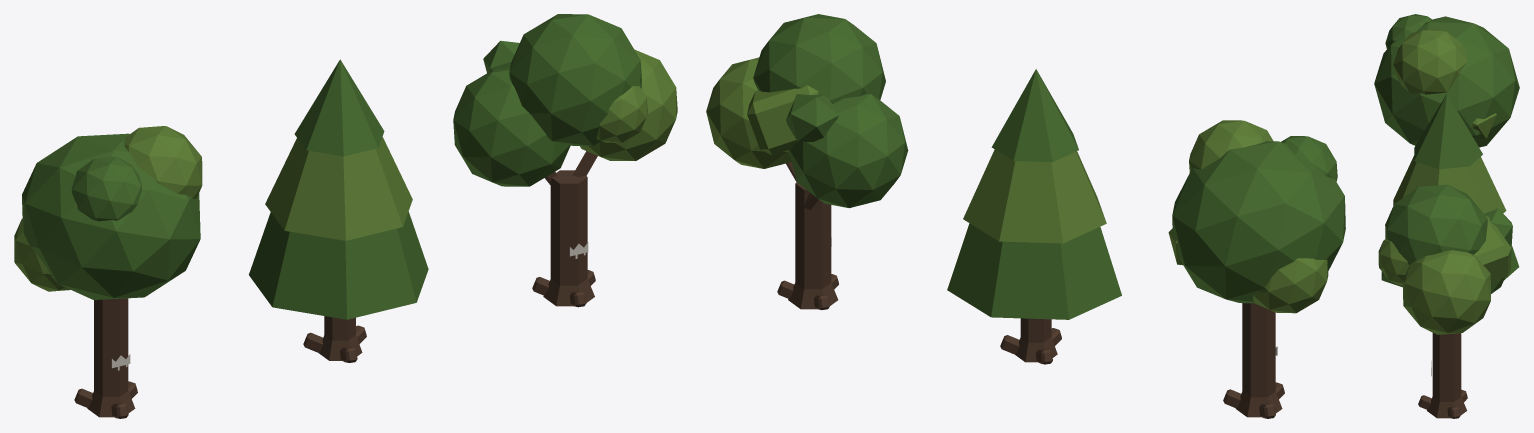
File: c_tree.glb
3 views of the same model, side by side, from view 1: azimuth 30°, elevation 25°; view 2: azimuth 150°, elevation 25°; view 3: azimuth 270°, elevation 25° (orthographic). The views are drawn at different scales.
Visible parts, largest first — view 1: tree_c, tree_a, tree_b; view 2: tree_c, tree_a, tree_b; view 3: tree_c, tree_a, tree_b.
Boxes of the visible parts, x1=… form: tree_c: x1=453, y1=14, x2=677, y2=307; tree_a: x1=14, y1=126, x2=202, y2=418; tree_b: x1=249, y1=59, x2=428, y2=362; tree_c: x1=706, y1=14, x2=908, y2=309; tree_a: x1=1168, y1=120, x2=1345, y2=418; tree_b: x1=947, y1=69, x2=1121, y2=364; tree_c: x1=1378, y1=184, x2=1512, y2=418; tree_a: x1=1374, y1=14, x2=1519, y2=147; tree_b: x1=1381, y1=94, x2=1519, y2=287.
Size of the model in its own units: 11.15 by 4.9 by 2.82.
